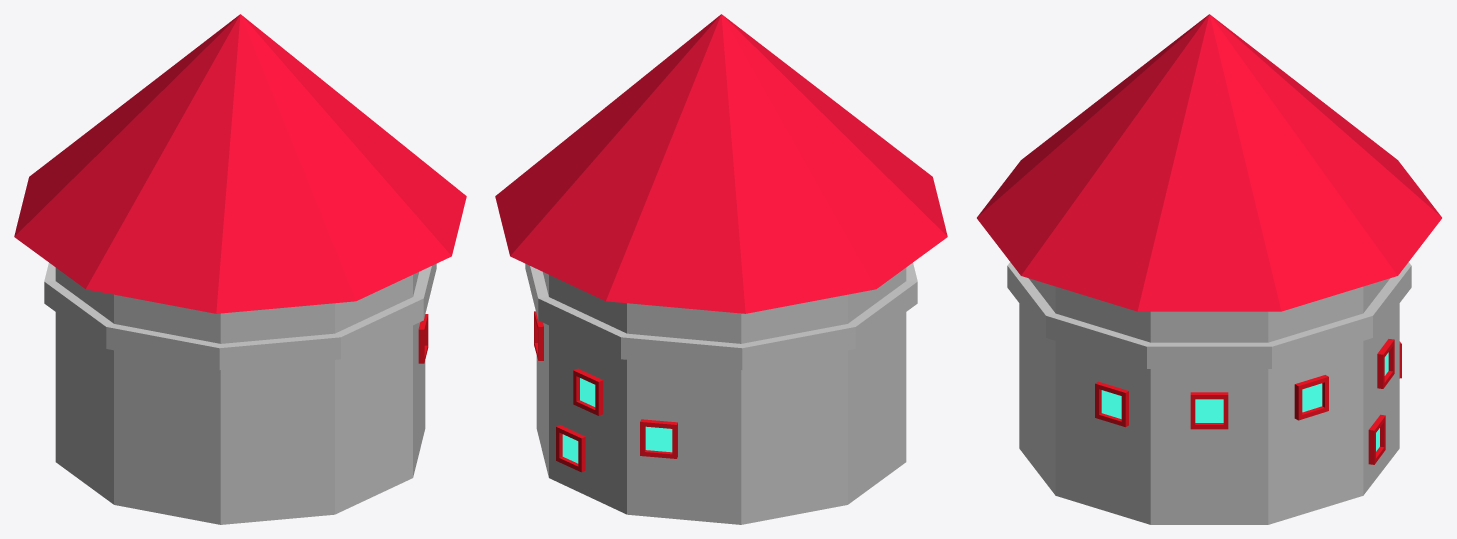
File: castle.glb
The picture shows the model from 3 angles, left to right: view 1: azimuth 30°, elevation 25°; view 2: azimuth 150°, elevation 25°; view 3: azimuth 270°, elevation 25°; orthographic projection.
Visible parts, largest first — view 1: Cylinder; view 2: Cylinder; view 3: Cylinder.
Boxes of the visible parts, x1,y1,x2,y2 form: Cylinder: [14, 14, 466, 524]; Cylinder: [495, 14, 947, 524]; Cylinder: [977, 14, 1441, 524].
Bounding box in the file's own units: 5.6 × 6.05 × 5.88.
